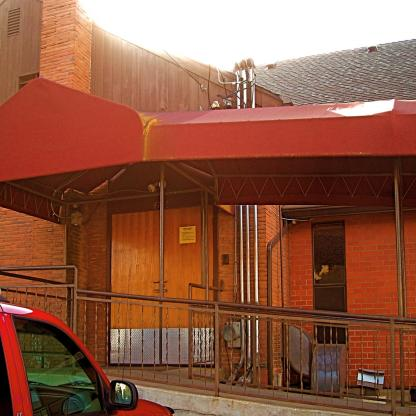Car: (1, 299, 148, 416)
